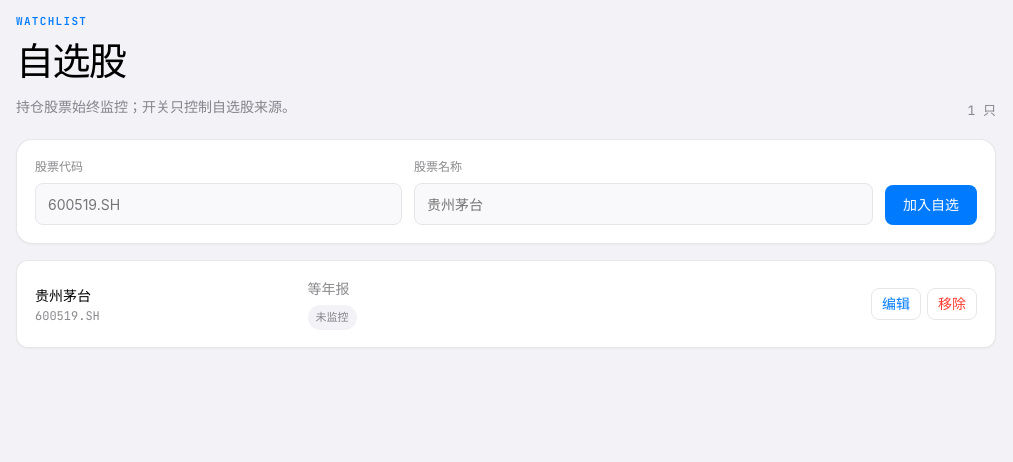
WatchlistPage › adds a stock directly with monitoring off by default and blocks double submit
Expected: the text "贵州茅台" is shown, [35, 287, 91, 304]
Expected: the text "持仓股票始终监控；开关只控制自选股来源。" is shown, [16, 98, 296, 115]
Type "000001.SZ" into the field labelled "股票代码" at (219,204), box [35, 183, 402, 225]
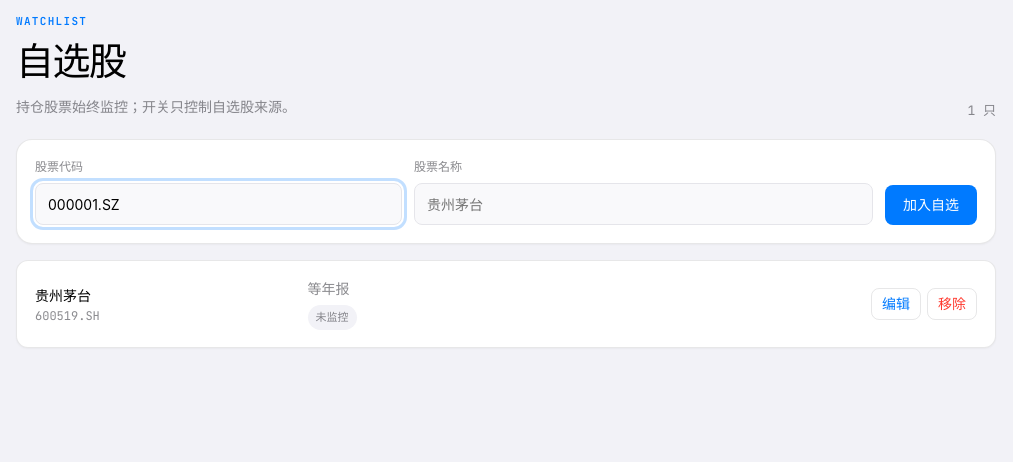
Type "平安银行" into the field labelled "股票名称" at (644,204), box [414, 183, 873, 225]
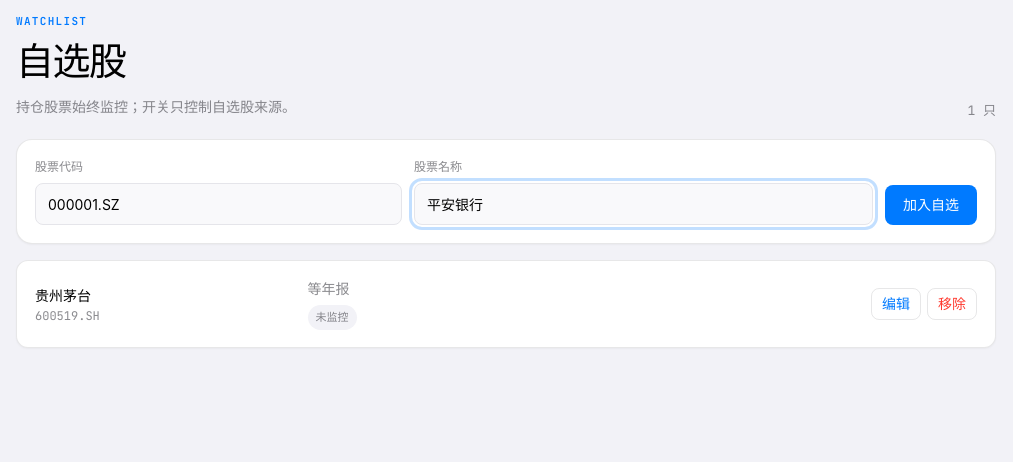
Click the button "加入自选" at (931,205), box [885, 185, 977, 225]
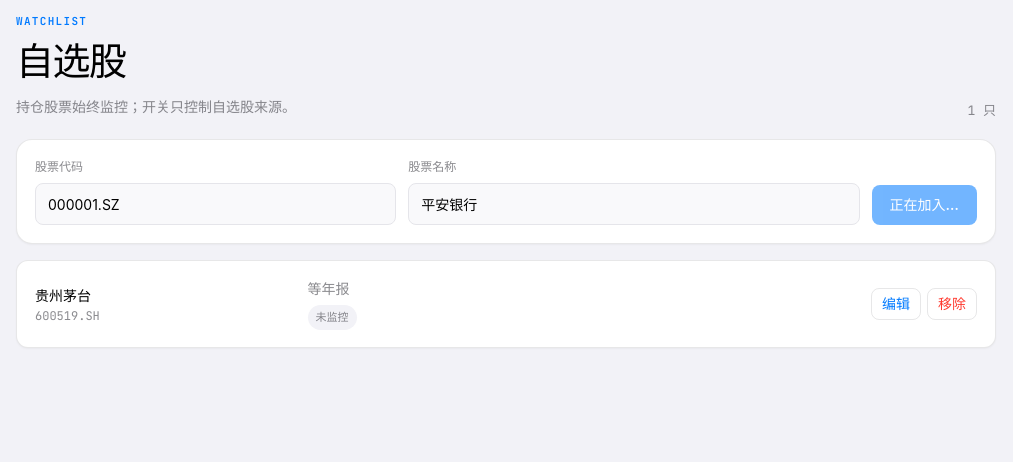
Expected: the button named "加入自选" is disabled
Click the button named "加入自选" at (924,205), box [872, 185, 977, 225]
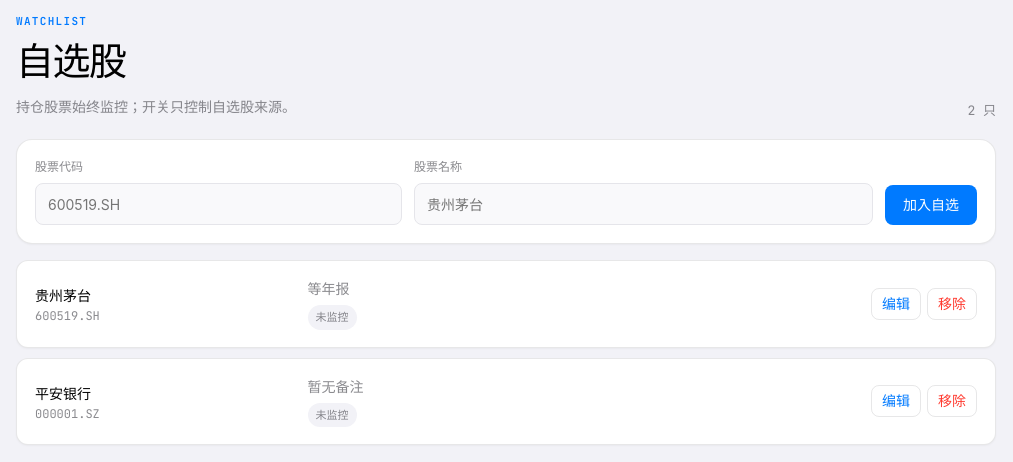
Expected: the text "平安银行" is shown, [35, 385, 91, 402]
